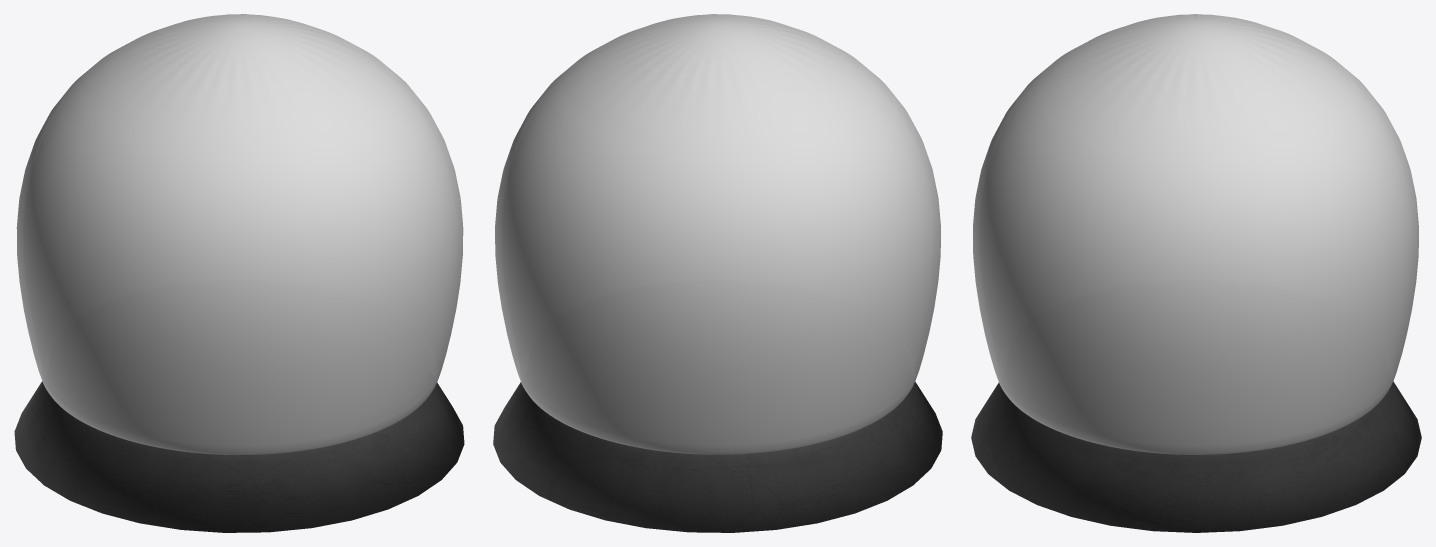
File: glass.fbx
3 views of the same model, side by side, from view 1: azimuth 30°, elevation 25°; view 2: azimuth 150°, elevation 25°; view 3: azimuth 270°, elevation 25° (orthographic).
Visible parts, largest first — view 1: Glass, Base; view 2: Glass, Base; view 3: Glass, Base.
Boxes of the visible parts, x1=… form: Glass: x1=16, y1=14, x2=463, y2=454; Base: x1=14, y1=381, x2=464, y2=532; Glass: x1=495, y1=14, x2=940, y2=454; Base: x1=493, y1=381, x2=942, y2=532; Glass: x1=973, y1=14, x2=1418, y2=454; Base: x1=971, y1=381, x2=1421, y2=532.
Bounding box in the file's own units: 210 × 211 × 210.
2 materials, 1 textured.
